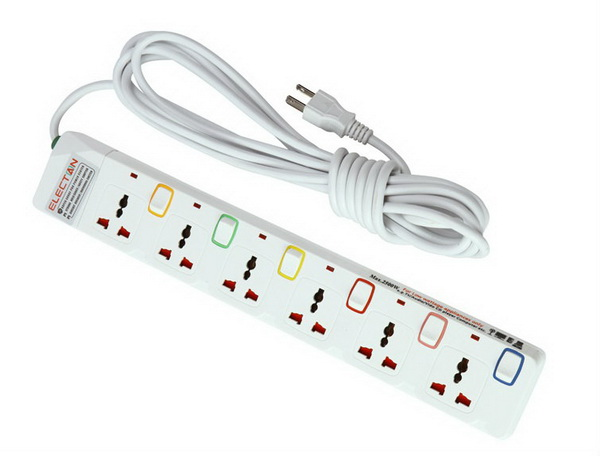Three_eye_plug: (24, 122, 550, 449)
